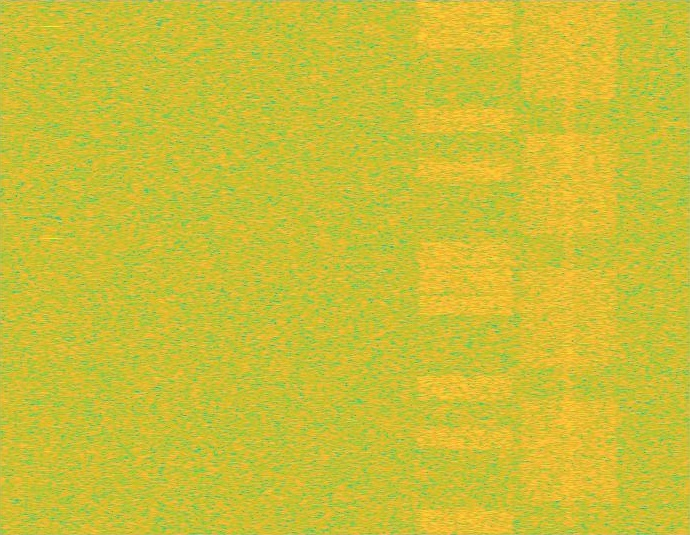5G: (518, 0, 621, 534)
DSSS: (562, 0, 576, 534)
LTE: (414, 0, 518, 534)
Radar: (45, 0, 59, 534)
